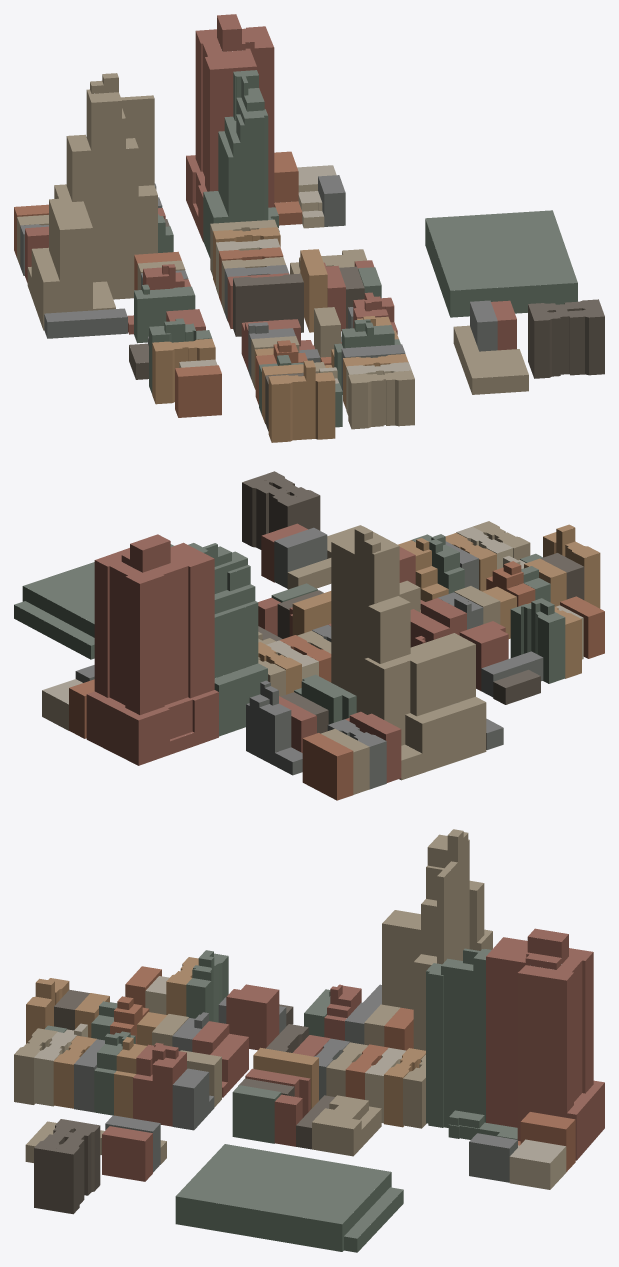
The model's file is tile-4_5.glb.
3 views of the same model, one above another, from view 1: azimuth 30°, elevation 25°; view 2: azimuth 150°, elevation 25°; view 3: azimuth 270°, elevation 25° (orthographic). The views are drawn at different scales.
Parts seen in each view (by area): view 1: wall, roof; view 2: wall, roof; view 3: wall, roof.
Boxes of the visible parts, x1,y1,x2,y2 form: wall: (14,16,604,442); roof: (14,14,604,391); wall: (14,482,604,800); roof: (14,471,604,761); wall: (14,831,604,1252); roof: (14,829,604,1238).
Bounding box in the file's own units: 208 × 89.7 × 211.
